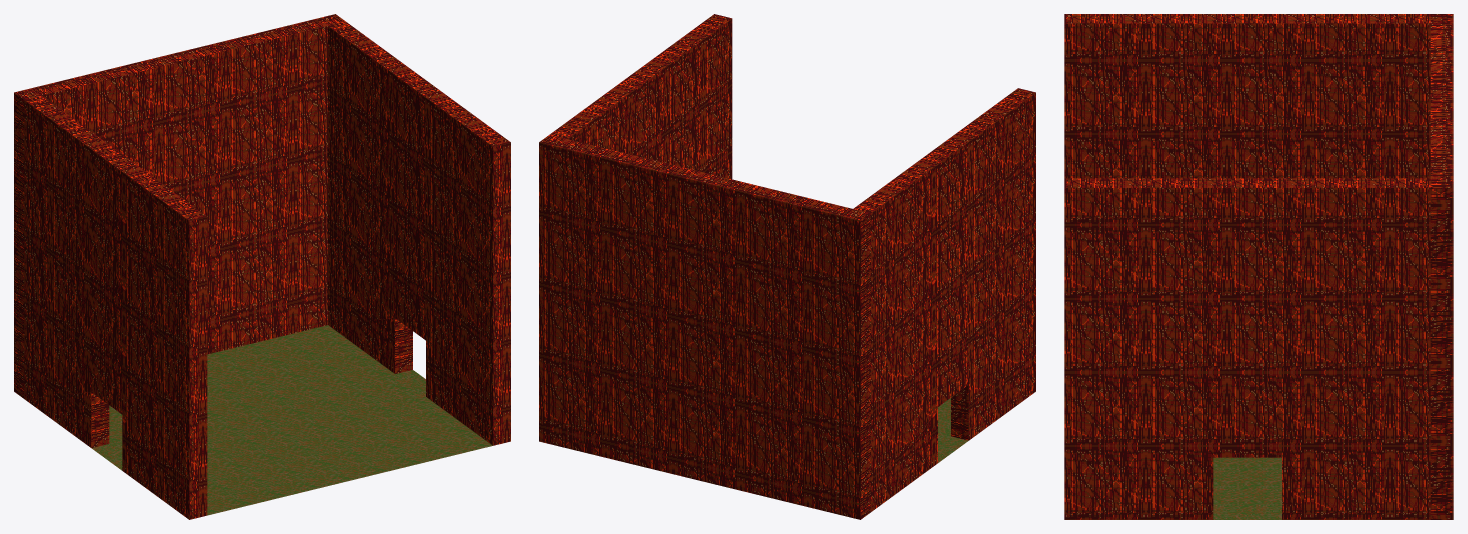
File: room.fbx
3 renders of one model, left to right at view 1: azimuth 30°, elevation 25°; view 2: azimuth 150°, elevation 25°; view 3: azimuth 270°, elevation 25°, orthographic. The views are drawn at different scales.
Parts seen in each view (by area): view 1: Cube.003, Cube.002, Cube.001, Plane; view 2: Cube.001, Cube.003, Cube.002, Plane; view 3: Cube.002, Cube.003, Cube.001, Plane.
Part boxes in pixels (box(x1,y1,x2,y2)): Cube.003: box(24, 95, 207, 519); Cube.002: box(328, 21, 510, 445); Cube.001: box(14, 14, 345, 398); Plane: box(91, 325, 492, 515); Cube.001: box(539, 135, 870, 519); Cube.003: box(853, 88, 1035, 511); Cube.002: box(549, 14, 732, 179); Plane: box(938, 398, 968, 462); Cube.002: box(1064, 178, 1430, 519); Cube.003: box(1064, 14, 1430, 178); Cube.001: box(1430, 14, 1453, 519); Plane: box(1213, 457, 1281, 519).
Size of the model in its own units: 1800 by 1600 by 1700.
Materials: 3 (3 with a texture image).
